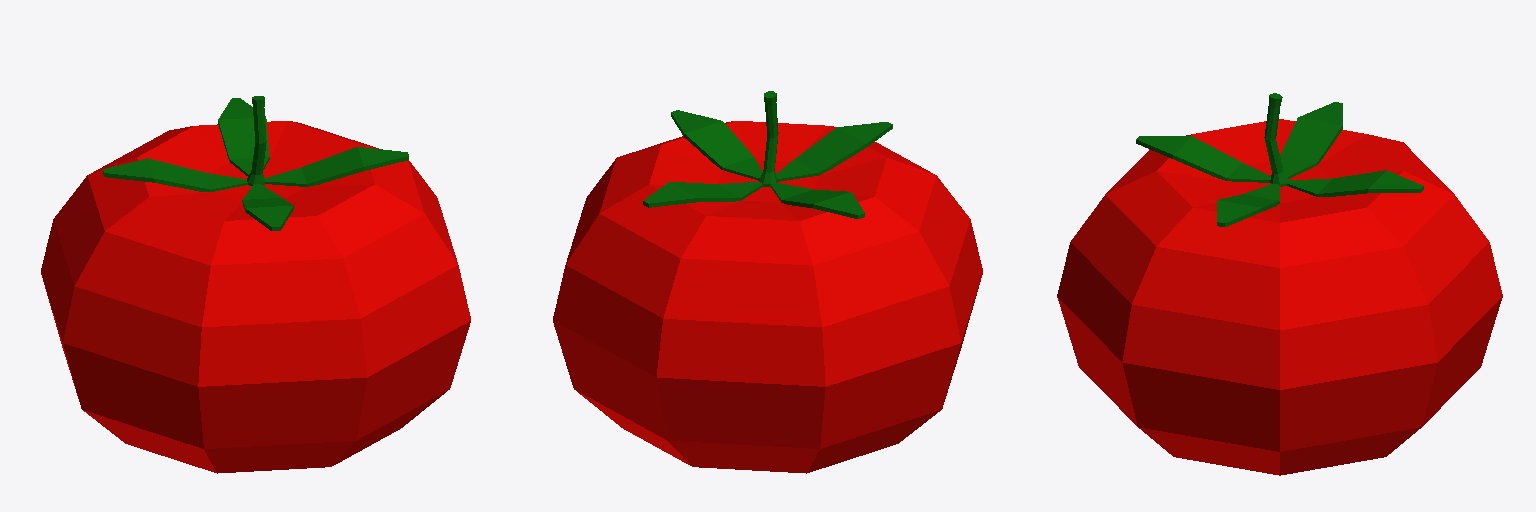
The model's file is Tomato_01.obj.
3 views of the same model, side by side, from view 1: azimuth 30°, elevation 25°; view 2: azimuth 150°, elevation 25°; view 3: azimuth 270°, elevation 25° (orthographic).
Visible parts, largest first — view 1: Tomato_Circle.024; view 2: Tomato_Circle.024; view 3: Tomato_Circle.024.
Boxes of the visible parts, x1,y1,x2,y2 form: Tomato_Circle.024: [41, 96, 470, 473]; Tomato_Circle.024: [553, 91, 982, 473]; Tomato_Circle.024: [1057, 93, 1502, 475].
Bounding box in the file's own units: 10.47 × 8.32 × 10.47.